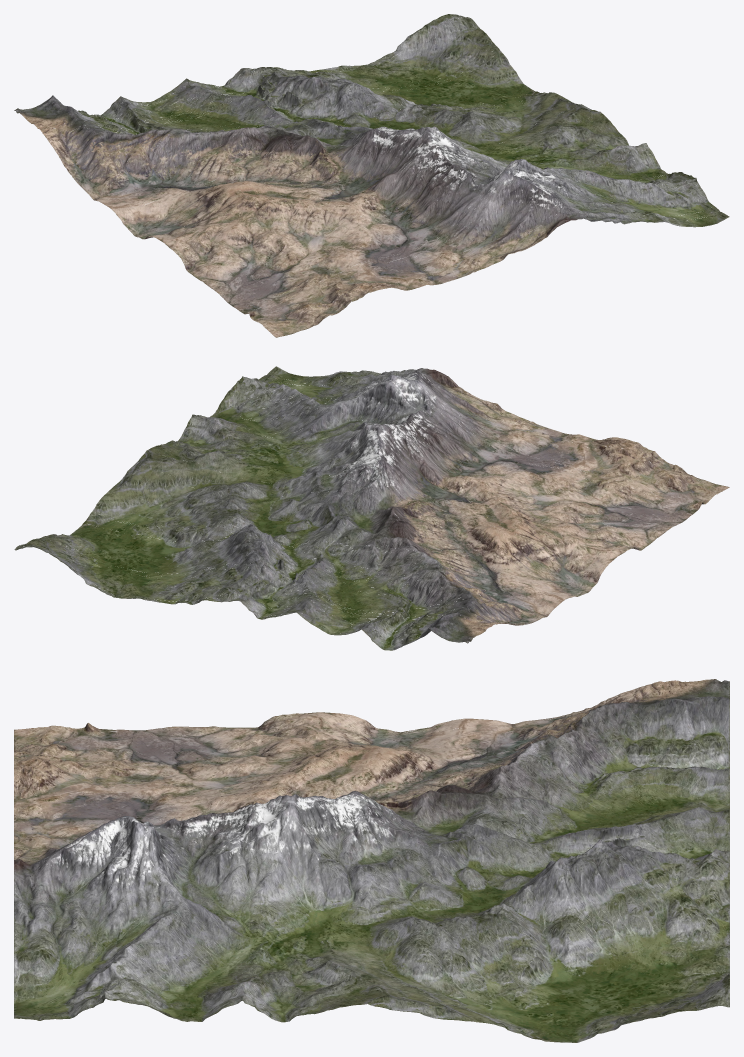
The model's file is mountain_range_01-hi.glb.
3 renders of one model, top to bottom at view 1: azimuth 30°, elevation 25°; view 2: azimuth 150°, elevation 25°; view 3: azimuth 270°, elevation 25°, orthographic. The views are drawn at different scales.
Parts seen in each view (by area): view 1: Object_2; view 2: Object_2; view 3: Object_2.
Part boxes in pixels (x1,y1,x2,y2): Object_2: (14,14,729,337); Object_2: (14,366,729,650); Object_2: (14,679,729,1042).
Bounding box in the file's own units: 1 × 0.174 × 1.
1 material, 1 textured.
